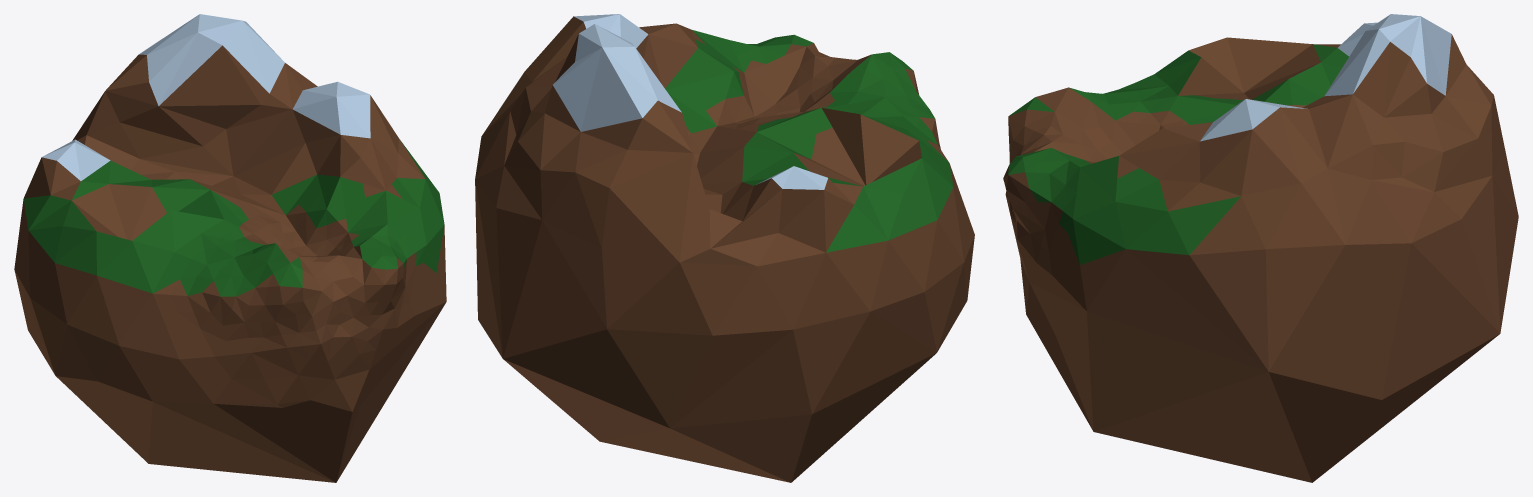
File: island.fbx
The picture shows the model from 3 angles, left to right: view 1: azimuth 30°, elevation 25°; view 2: azimuth 150°, elevation 25°; view 3: azimuth 270°, elevation 25°; orthographic projection. The views are drawn at different scales.
Parts seen in each view (by area): view 1: Island; view 2: Island; view 3: Island.
Part boxes in pixels (x1=…): Island: x1=14, y1=14, x2=446, y2=482; Island: x1=475, y1=14, x2=974, y2=482; Island: x1=1003, y1=14, x2=1518, y2=482.
Size of the model in its own units: 2036 by 1944 by 2050.
